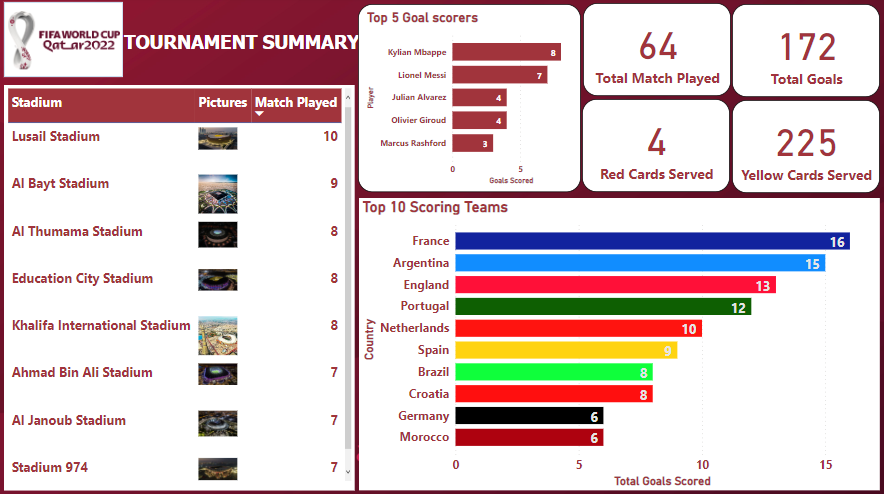

The dashboard page shown, as its layout file describes it:
{"tool":"powerbi","page":{"name":"Page 1","canvas":[1280,720],"ordinal":0},"visuals":[{"type":"textbox","box":[151.2,43.2,375.8,60.5],"z":0},{"type":"card","fields":{"Values":["All.Match"]},"box":[843.8,9.1,213.1,133.9],"z":1000},{"type":"shape","box":[10.1,7.2,171.4,108],"z":2000},{"type":"image","box":[10.1,7.2,171.4,108],"z":3000},{"type":"card","fields":{"Values":["All.Yellow Cards"]},"box":[1058.4,148.8,213.1,133.9],"z":4000},{"type":"card","fields":{"Values":["All.Red Cards"]},"box":[842.4,147.3,213.1,133.9],"z":5000},{"type":"card","fields":{"Values":["Goals.Total Goals"]},"box":[1058.4,10.5,213.1,133.9],"z":6000},{"type":"clusteredBarChart","title":"Top 10 Scoring Teams","fields":{"Category":["Top 10.Country"],"Y":["Top 10.Total Goals"]},"box":[521.3,289.4,750.2,421],"z":7000},{"type":"tableEx","fields":{"Values":["Stadium.Stadium","Stadium.Pictures","Stadium.Number of Matches Played"]},"box":[10.1,126.7,505.4,584],"z":8000},{"type":"clusteredBarChart","title":"Top 5 Goal scorers","fields":{"Category":["Goals scorer.PLAYER"],"Y":["Goals scorer.GOALS"]},"box":[519.8,10.1,321.1,270.7],"z":9000}]}

Visuals, with their boxes in screenshot pixels (x1, y1, x2, y2), scaled from the page's 1280x720 canvas onto the 884x494 screenshot:
textbox: 104:30:364:71
card - All.Match: 583:6:730:98
shape: 7:5:125:79
image: 7:5:125:79
card - All.Yellow Cards: 731:102:878:194
card - All.Red Cards: 582:101:729:193
card - Goals.Total Goals: 731:7:878:99
"Top 10 Scoring Teams" clusteredBarChart: 360:199:878:487
tableEx - Stadium.Stadium x Stadium.Pictures: 7:87:356:488
"Top 5 Goal scorers" clusteredBarChart: 359:7:581:193
